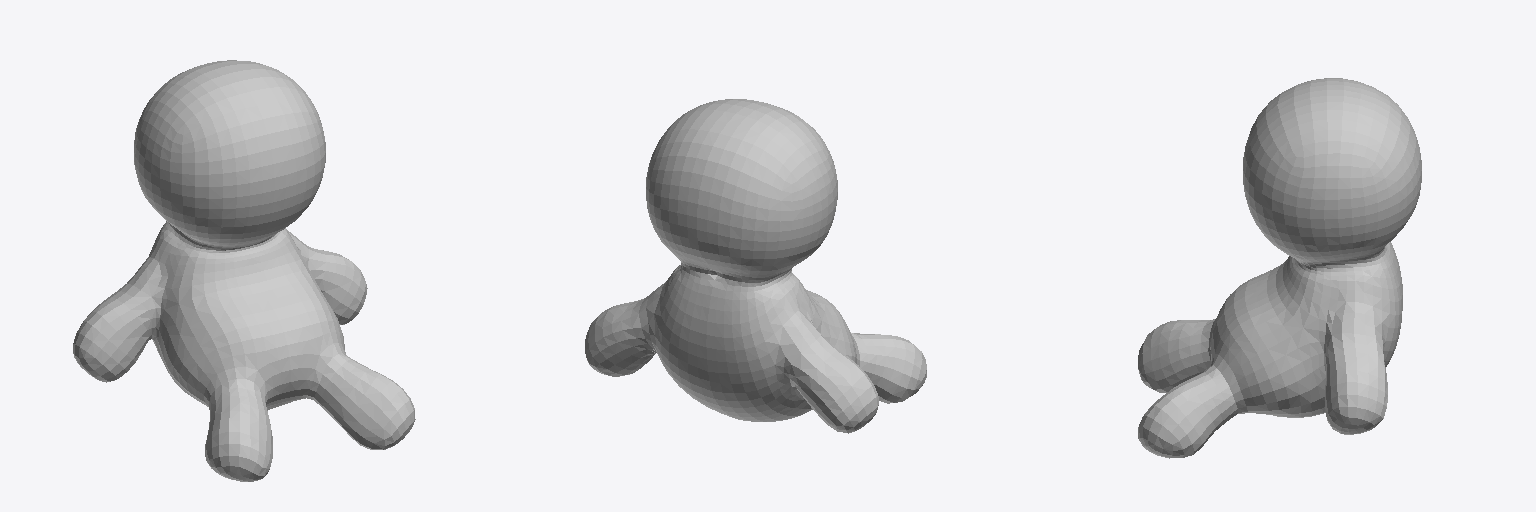
The model's file is voodoodoll.OBJ.
3 views of the same model, side by side, from view 1: azimuth 30°, elevation 25°; view 2: azimuth 150°, elevation 25°; view 3: azimuth 270°, elevation 25° (orthographic).
Size of the model in its own units: 27.71 by 30.64 by 23.76.